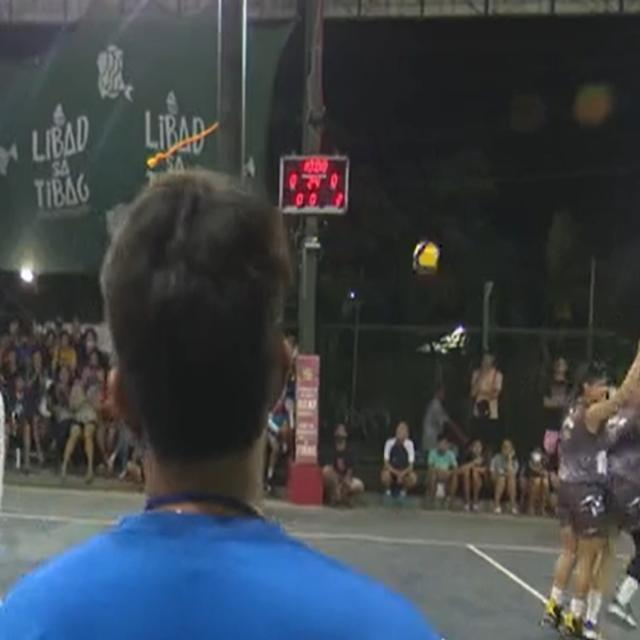volleyball: (412, 240, 439, 274)
